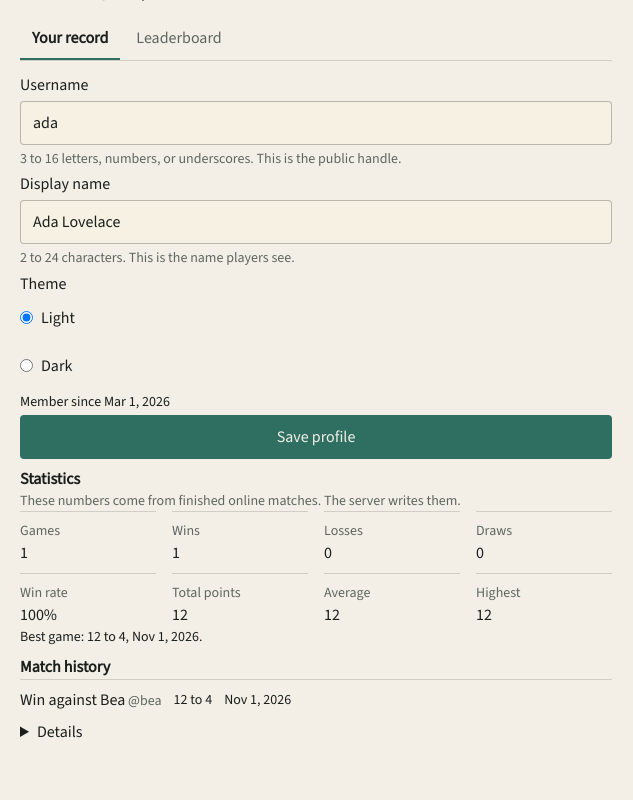
Test case: profile screen › saves only the name fields and theme, and lists a completed match
(page scrolled)
Expected: the text "Win against Bea @bea" is shown, top-left (20, 688), bottom-right (162, 712)
Expected: the text "Best game: 12 to 4, Nov 1, 2026." is shown, top-left (20, 627), bottom-right (202, 646)
Click the heading "Details". click: (60, 731)
box: top-left (37, 721), bottom-right (82, 742)
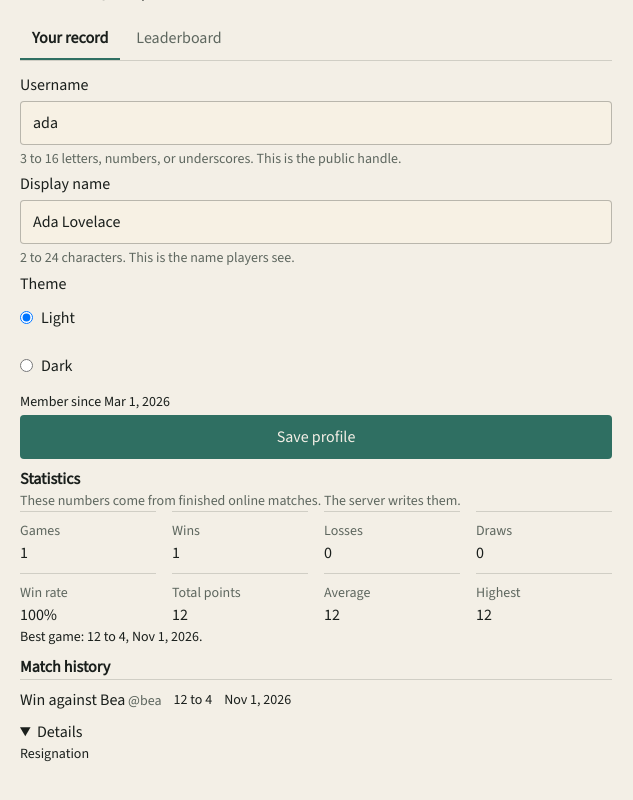
Expected: the text "Resignation" is shown, top-left (20, 744), bottom-right (89, 763)
Replace the text in the field labelled "Username" with "Ada_Player". click: (316, 123)
box: top-left (20, 101), bottom-right (612, 145)
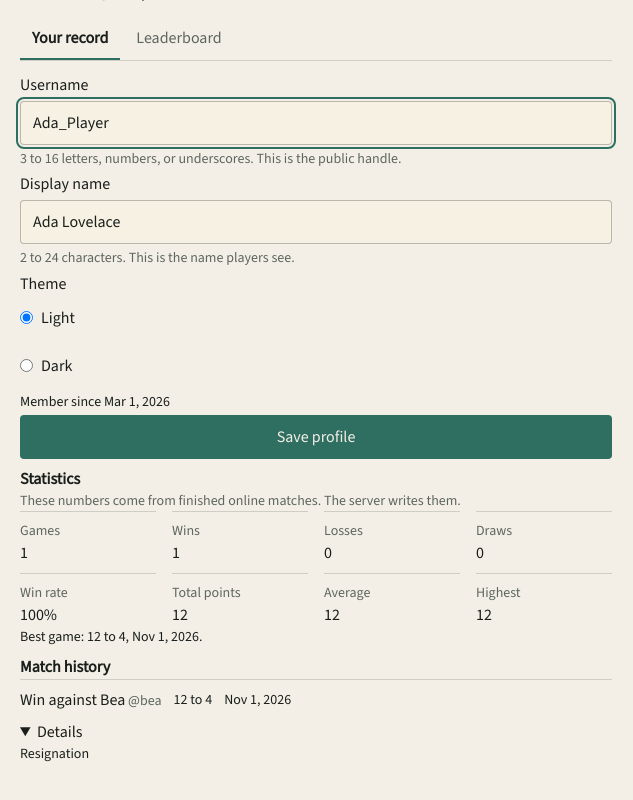
Click the button "Save profile". click: (316, 438)
box: top-left (20, 416), bottom-right (612, 460)
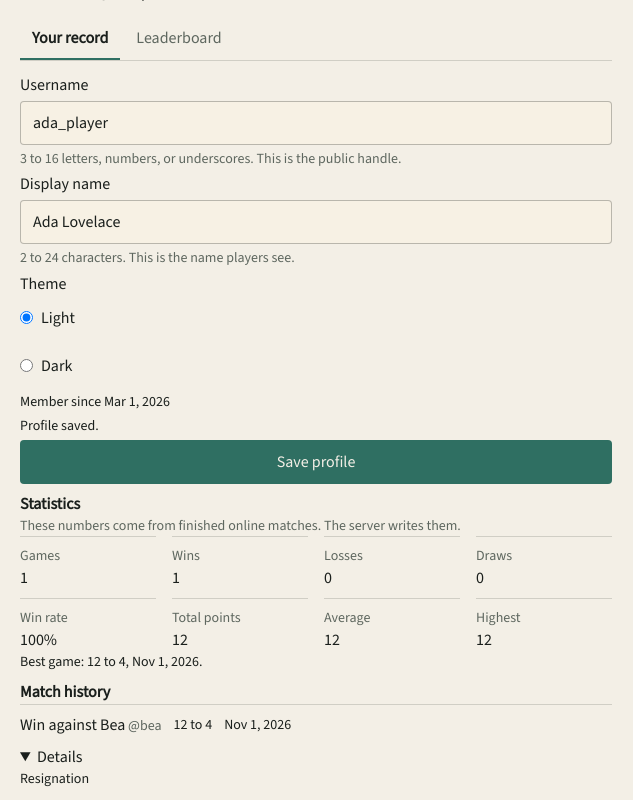
Click the tab "Leaderboard". click: (179, 38)
box: top-left (124, 16), bottom-right (234, 60)
(page scrolled)
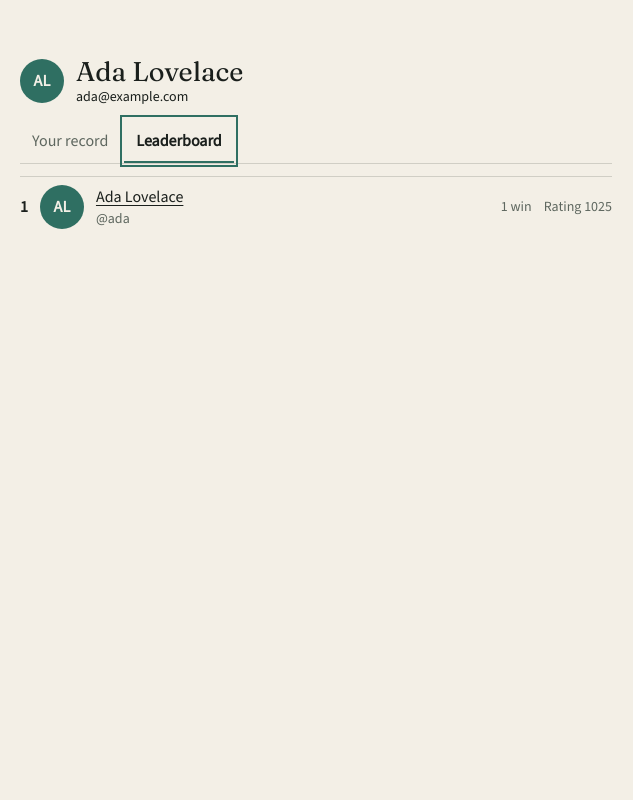
Expected: the text "Rating 1025" is shown, top-left (544, 197), bottom-right (612, 216)
Expected: the text "@ada" is shown, top-left (96, 209), bottom-right (130, 228)
